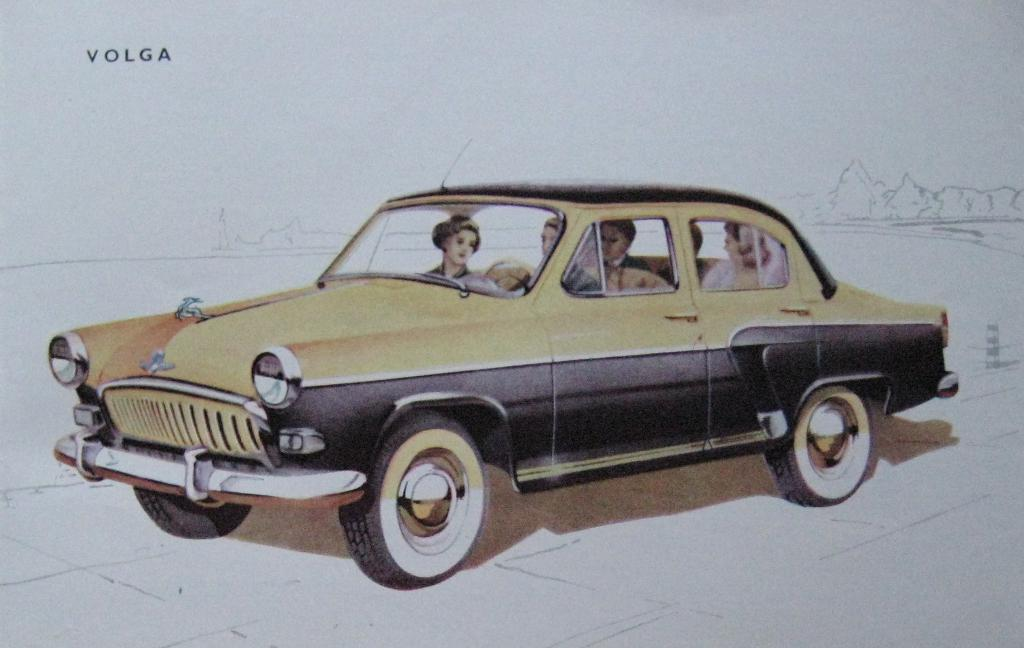Car: (42, 176, 958, 583)
